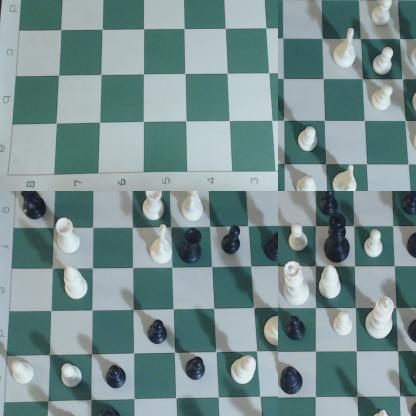black-bishop: (280, 364, 306, 399), (265, 225, 278, 262), (96, 406, 124, 416)
black-king: (328, 212, 351, 265)
black-knight: (18, 192, 48, 222)
black-pawn: (220, 222, 251, 258), (102, 360, 133, 394), (183, 355, 210, 389), (287, 316, 312, 348), (149, 315, 170, 349), (315, 192, 341, 216), (396, 192, 416, 218)
black-rook: (181, 231, 204, 267), (407, 310, 416, 348), (409, 358, 416, 393)
white-bishop: (63, 264, 92, 307), (319, 266, 345, 303), (232, 356, 258, 391), (409, 30, 416, 74)
white-king: (367, 301, 397, 341), (262, 300, 278, 351)
white-knight: (334, 26, 360, 72), (148, 225, 172, 268), (181, 192, 209, 224), (334, 162, 360, 191), (370, 409, 399, 416)
white-pawn: (7, 353, 38, 391), (362, 228, 389, 265), (60, 360, 85, 396), (374, 42, 398, 77), (297, 120, 322, 153), (286, 219, 310, 253), (332, 313, 358, 343), (372, 84, 398, 111), (371, 1, 396, 27), (296, 176, 320, 191)
white-queen: (282, 262, 311, 306)
white-rook: (54, 219, 83, 258), (141, 192, 167, 224)
